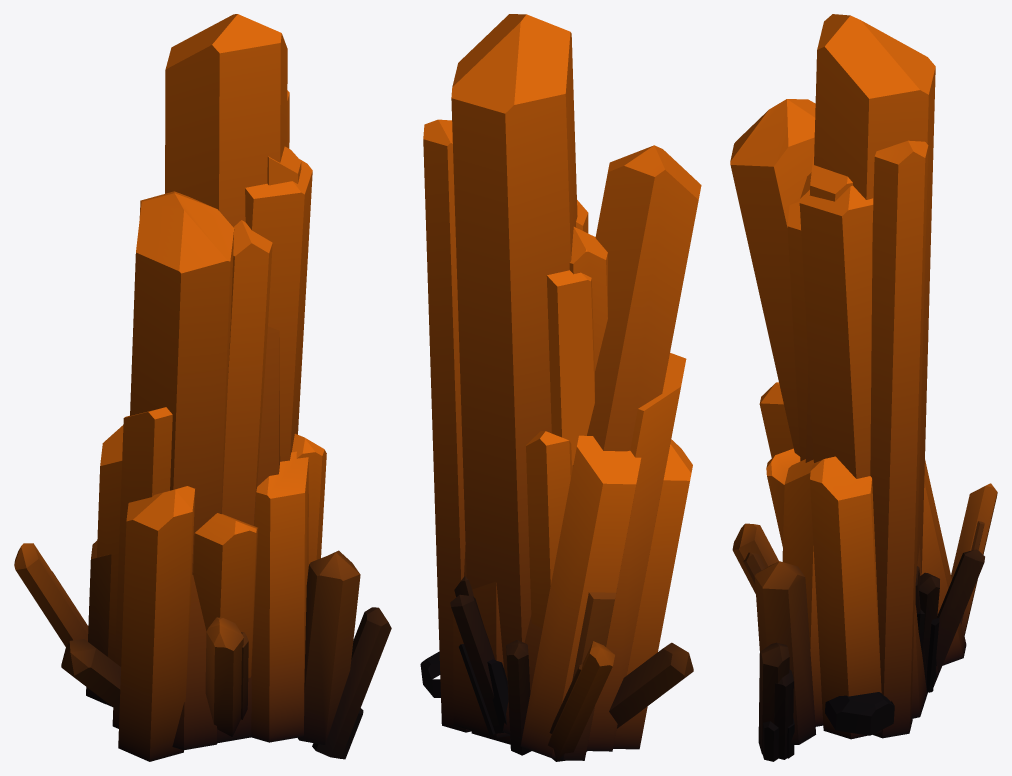
The model's file is Crystal_01.FBX.
3 views of the same model, side by side, from view 1: azimuth 30°, elevation 25°; view 2: azimuth 150°, elevation 25°; view 3: azimuth 270°, elevation 25° (orthographic). The views are drawn at different scales.
Visible parts, largest first — view 1: Crystal_01; view 2: Crystal_01; view 3: Crystal_01.
Part boxes in pixels (bbox=[...]): Crystal_01: bbox=[14, 14, 391, 761]; Crystal_01: bbox=[420, 14, 701, 761]; Crystal_01: bbox=[730, 14, 997, 761].
Bounding box in the file's own units: 12.74 × 31.65 × 10.73.
